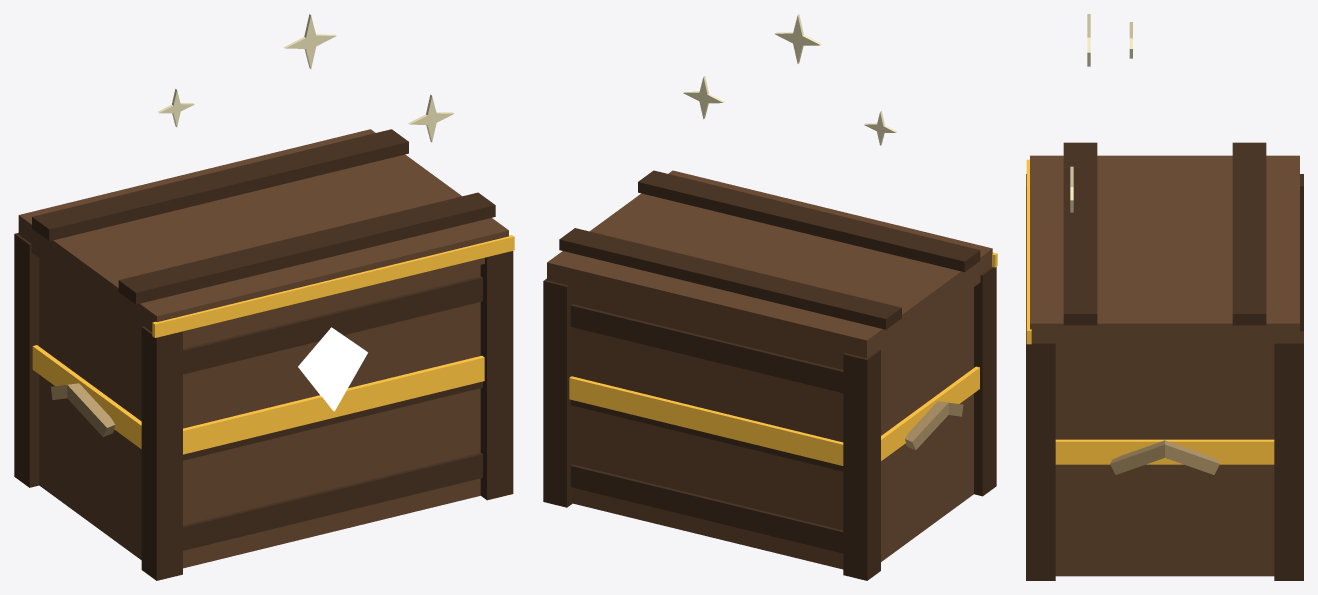
File: Prop_LootCrate_Legendary.fbx
3 views of the same model, side by side, from view 1: azimuth 30°, elevation 25°; view 2: azimuth 150°, elevation 25°; view 3: azimuth 270°, elevation 25° (orthographic). The views are drawn at different scales.
Visible parts, largest first — view 1: Prop_LootCrate_Legendary_Body, Prop_LootCrate_Legendary_Lid, Prop_LootCrate_Legendary_Sparkles; view 2: Prop_LootCrate_Legendary_Body, Prop_LootCrate_Legendary_Lid, Prop_LootCrate_Legendary_Sparkles; view 3: Prop_LootCrate_Legendary_Body, Prop_LootCrate_Legendary_Lid, Prop_LootCrate_Legendary_Sparkles.
Part boxes in pixels (x1,y1,x2,y2): Prop_LootCrate_Legendary_Body: [14, 233, 513, 580]; Prop_LootCrate_Legendary_Lid: [18, 129, 514, 337]; Prop_LootCrate_Legendary_Sparkles: [158, 14, 454, 142]; Prop_LootCrate_Legendary_Body: [543, 267, 996, 580]; Prop_LootCrate_Legendary_Lid: [547, 170, 997, 359]; Prop_LootCrate_Legendary_Sparkles: [683, 14, 897, 145]; Prop_LootCrate_Legendary_Body: [1026, 174, 1303, 580]; Prop_LootCrate_Legendary_Lid: [1026, 142, 1299, 350]; Prop_LootCrate_Legendary_Sparkles: [1070, 14, 1132, 212].
Bounding box in the file's own units: 1.05 × 1.27 × 0.658.
